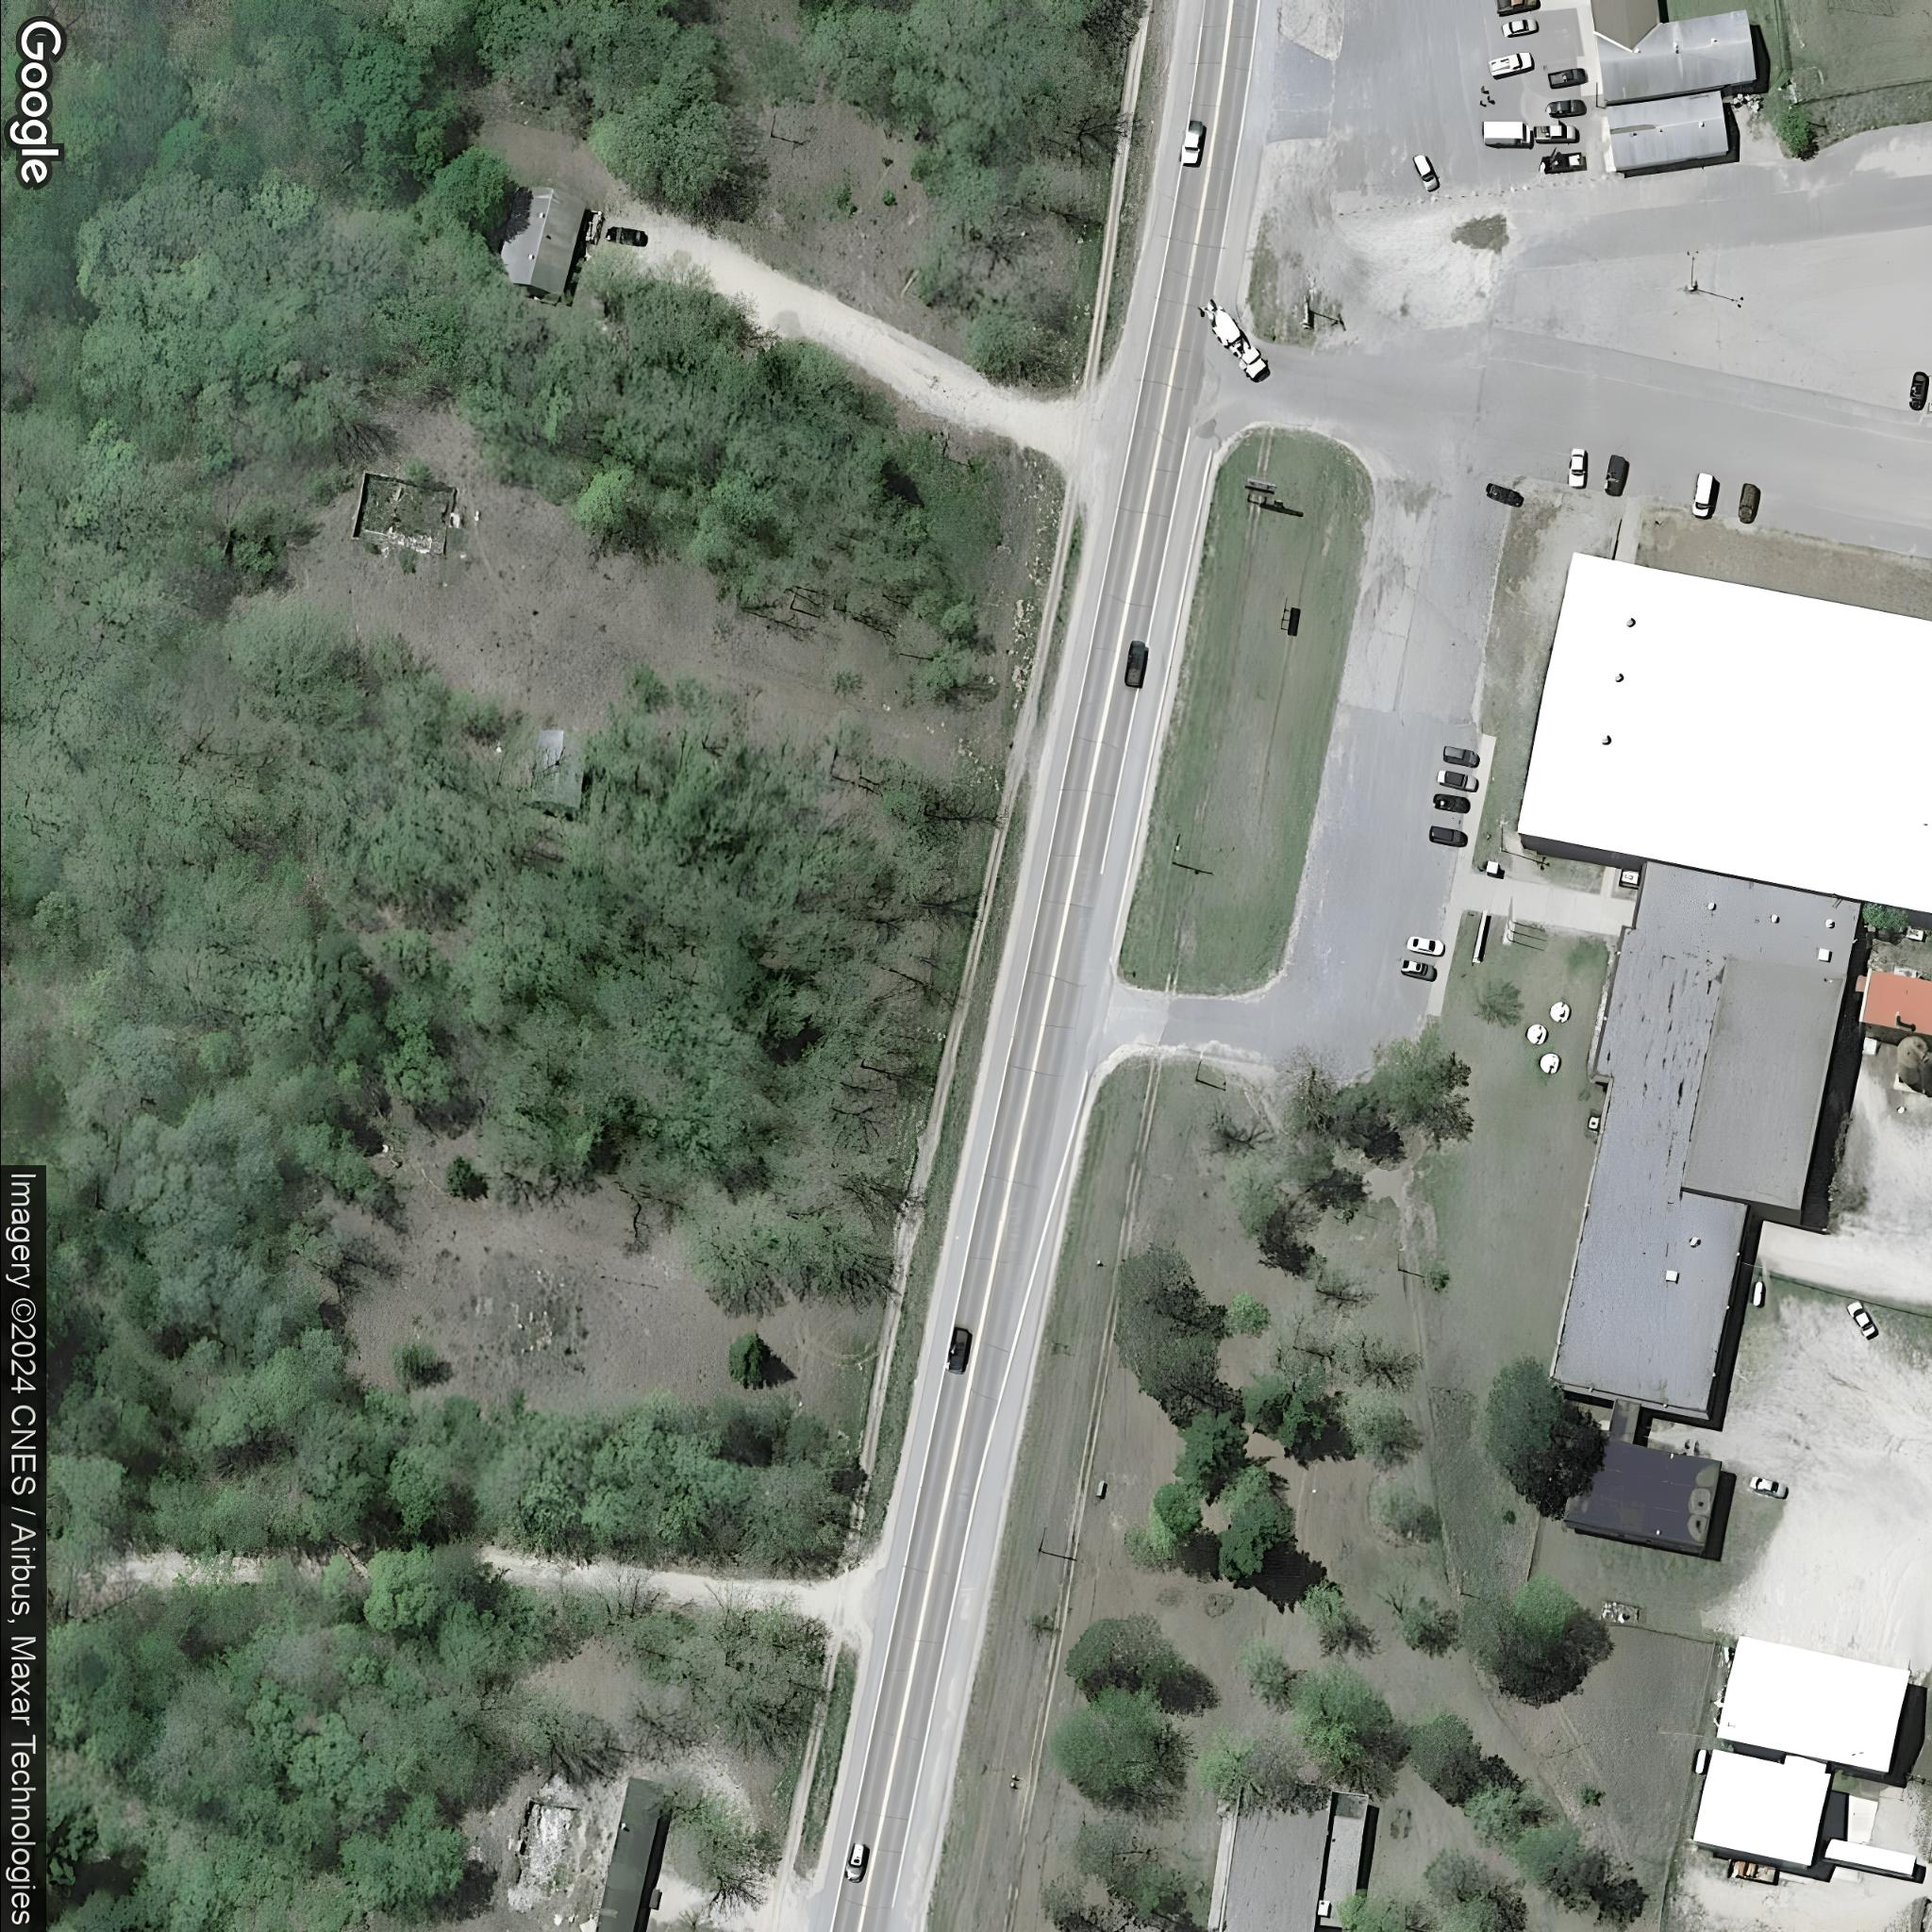House: (1587, 0, 1759, 177), (1203, 1771, 1369, 1930), (492, 180, 586, 308), (1852, 966, 1932, 1047)
Other: (1513, 550, 1932, 1559), (1688, 1631, 1911, 1872)
Propane: (1748, 1277, 1767, 1309), (1690, 1744, 1709, 1776)
Trailer: (589, 1771, 671, 1930)
